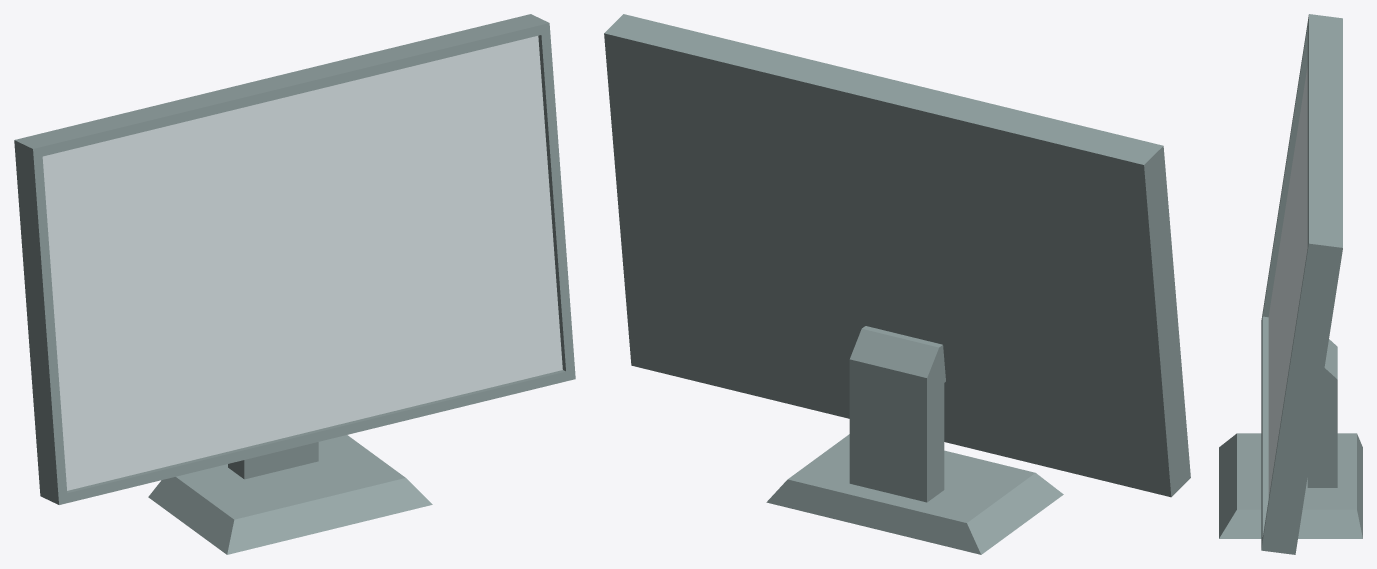
The model's file is computerScreen.glb.
The picture shows the model from 3 angles, left to right: view 1: azimuth 30°, elevation 25°; view 2: azimuth 150°, elevation 25°; view 3: azimuth 270°, elevation 25°; orthographic projection. The views are drawn at different scales.
Visible parts, largest first — view 1: computerScreen(Clone); view 2: computerScreen(Clone); view 3: computerScreen(Clone).
Boxes of the visible parts, bbox=[...] form: computerScreen(Clone): bbox=[14, 14, 575, 554]; computerScreen(Clone): bbox=[604, 14, 1190, 554]; computerScreen(Clone): bbox=[1219, 14, 1362, 554].
Size of the model in its own units: 0.7972 by 0.5974 by 0.2111.
2 materials, 2 textured.
